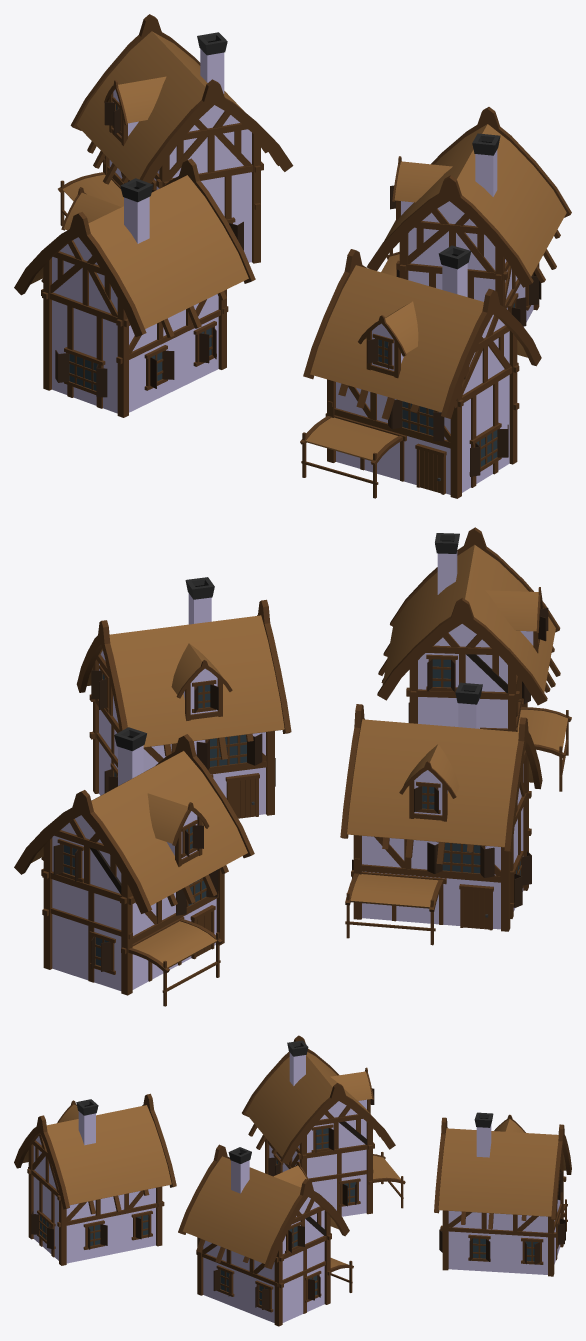
The model's file is houses.obj.
3 renders of one model, top to bottom at view 1: azimuth 30°, elevation 25°; view 2: azimuth 150°, elevation 25°; view 3: azimuth 270°, elevation 25°, orthographic. The views are drawn at different scales.
Visible parts, largest first — view 1: pCube6548.001_Untitled.002, pCube6453.001_Untitled.000, pCube6548_Untitled.009, pCube6453.002_Untitled.001; view 2: pCube6548_Untitled.009, pCube6453.001_Untitled.000, pCube6453.002_Untitled.001, pCube6548.001_Untitled.002; view 3: pCube6453.002_Untitled.001, pCube6548.001_Untitled.002, pCube6548_Untitled.009, pCube6453.001_Untitled.000.
Boxes of the visible parts, box(x1,y1,x2,y2) form: pCube6548.001_Untitled.002: box(300, 245, 541, 498); pCube6453.001_Untitled.000: box(14, 158, 255, 417); pCube6548_Untitled.009: box(58, 14, 293, 263); pCube6453.002_Untitled.001: box(367, 107, 571, 326); pCube6548_Untitled.009: box(14, 727, 254, 1006); pCube6453.001_Untitled.000: box(340, 682, 542, 945); pCube6453.002_Untitled.001: box(76, 577, 291, 818); pCube6548.001_Untitled.002: box(377, 527, 571, 791); pCube6453.002_Untitled.001: box(178, 1144, 353, 1326); pCube6548.001_Untitled.002: box(14, 1093, 176, 1265); pCube6548_Untitled.009: box(434, 1112, 571, 1276); pCube6453.001_Untitled.000: box(242, 1035, 405, 1216).
Bounding box in the file's own units: 31.75 × 12.69 × 43.63.
